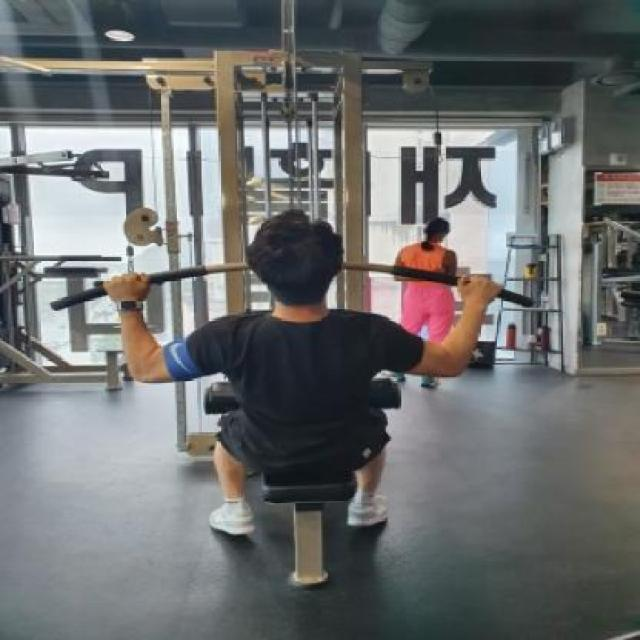Lat Pull Down: (27, 3, 576, 586)
